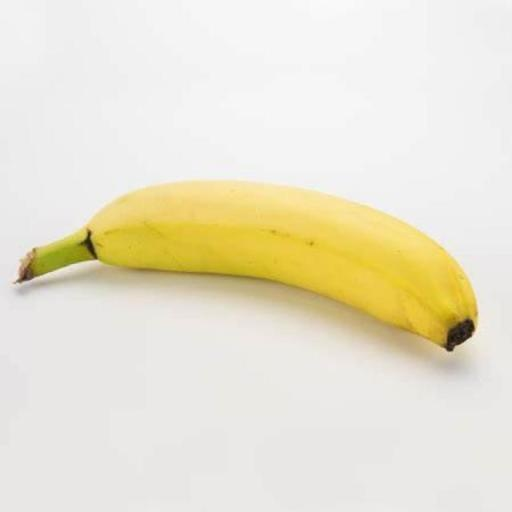fruit: (19, 181, 477, 350)
